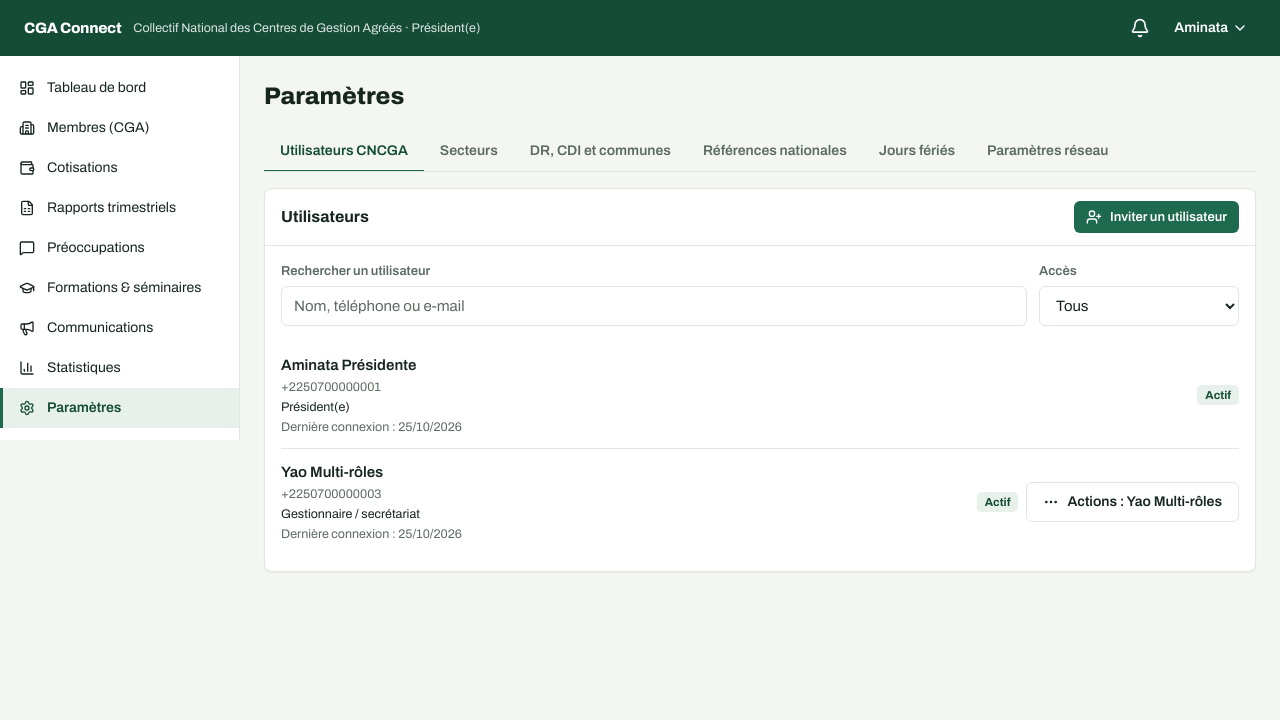
Scenario: /cncga/parametres · onglets et utilisateurs (1.7) › F-ORG-10 · Utilisateurs CNCGA : la liste, puis une invitation avec un profil du réseau
Check: the text "Yao Multi-rôles" is shown, box [281,464,383,480]
Click the button "Inviter un utilisateur": click(1156, 217) [1074,201,1239,233]
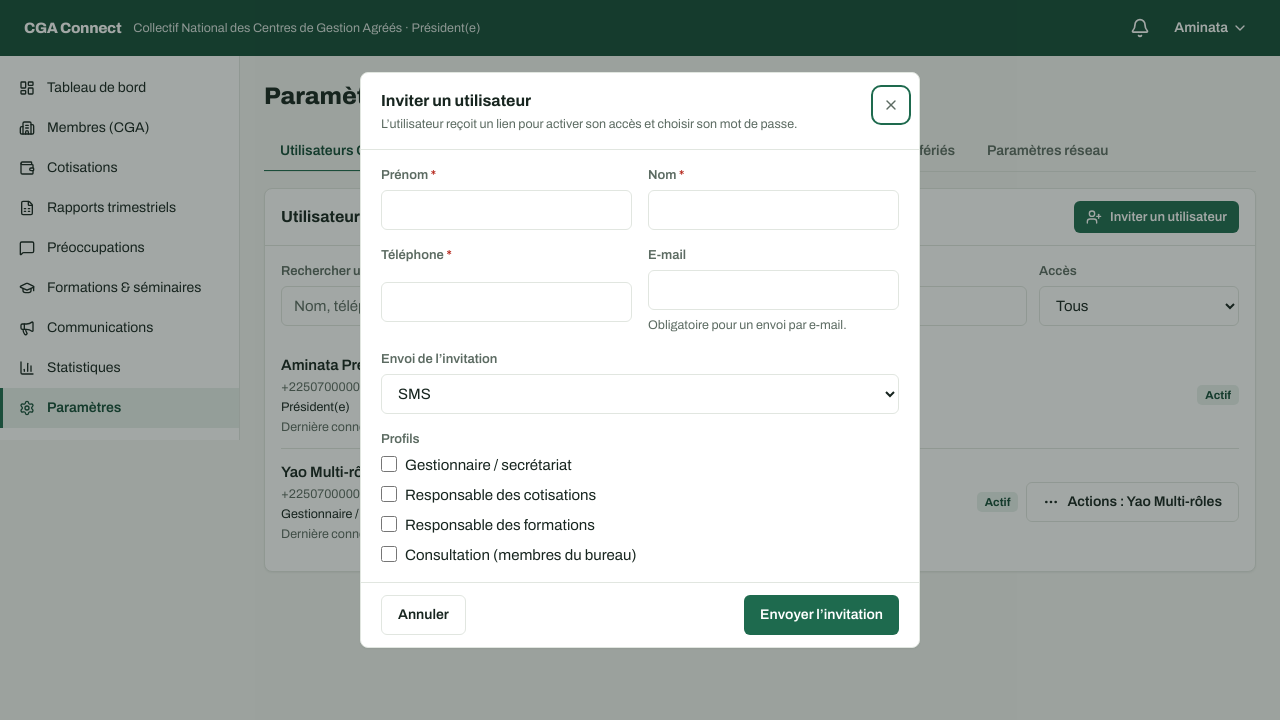
In the field labelled "Prénom *": (506, 210) [381,190,632,230], type "Marie"
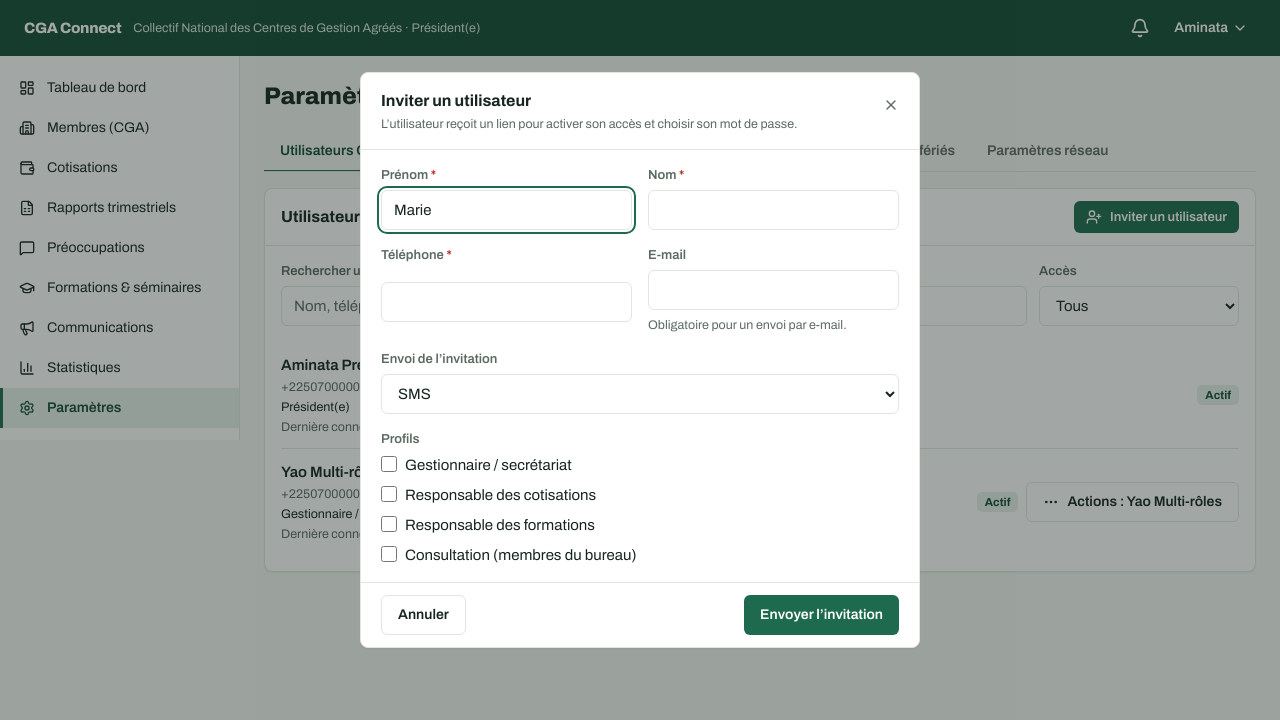
In the field labelled "Nom *": (774, 210) [648,190,899,230], type "Cotisations"
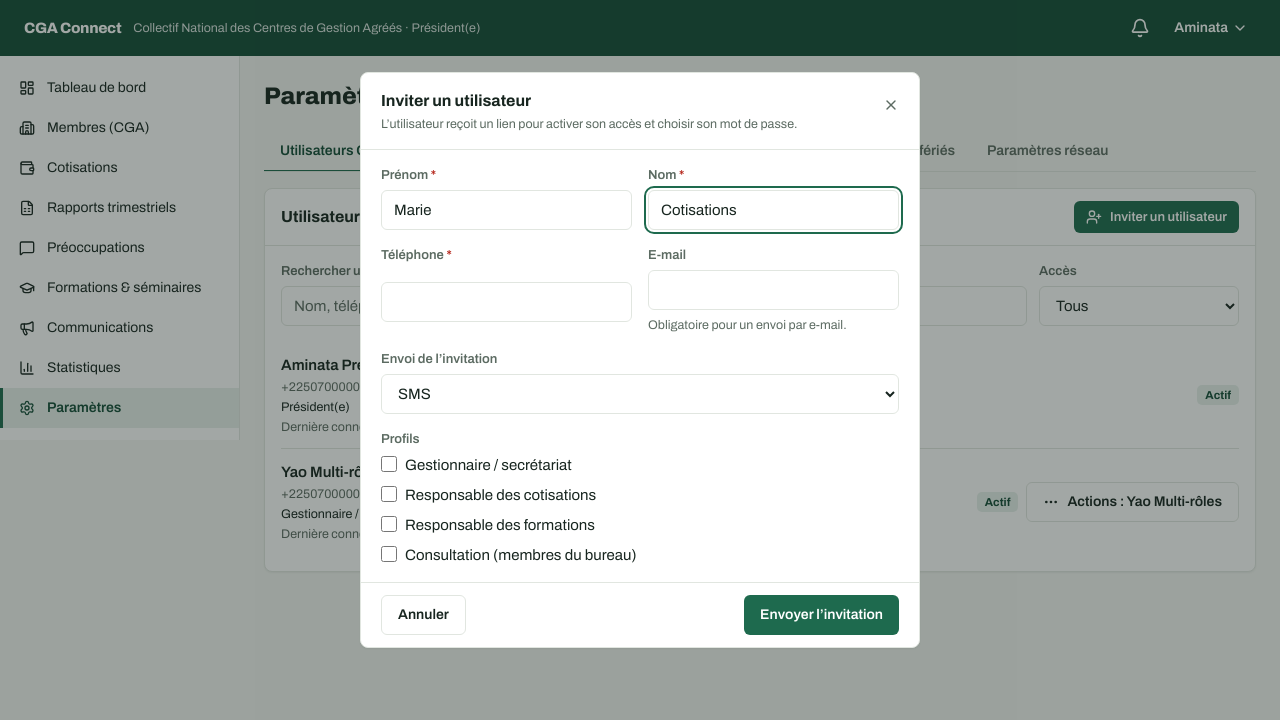
In the field labelled "Téléphone *": (506, 302) [381,282,632,322], type "+2250700000030"
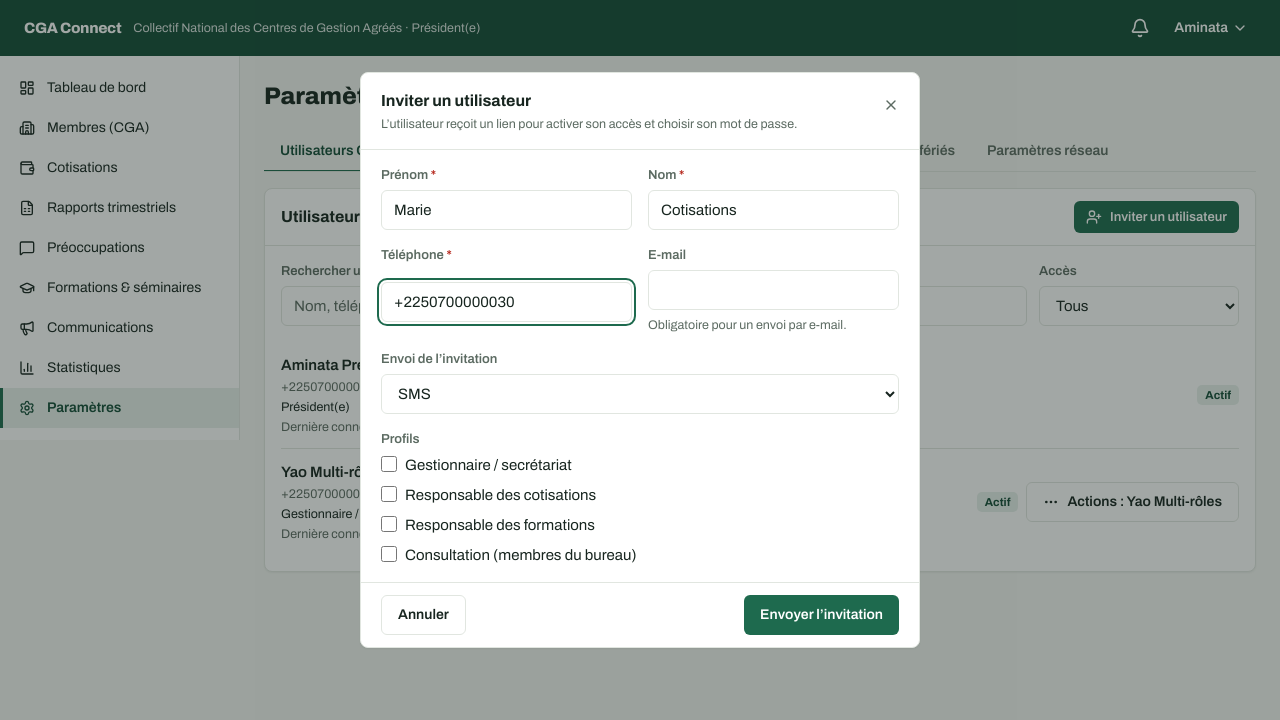
Click the checkbox labelled "Responsable des cotisations": click(389, 494) [381,486,397,502]
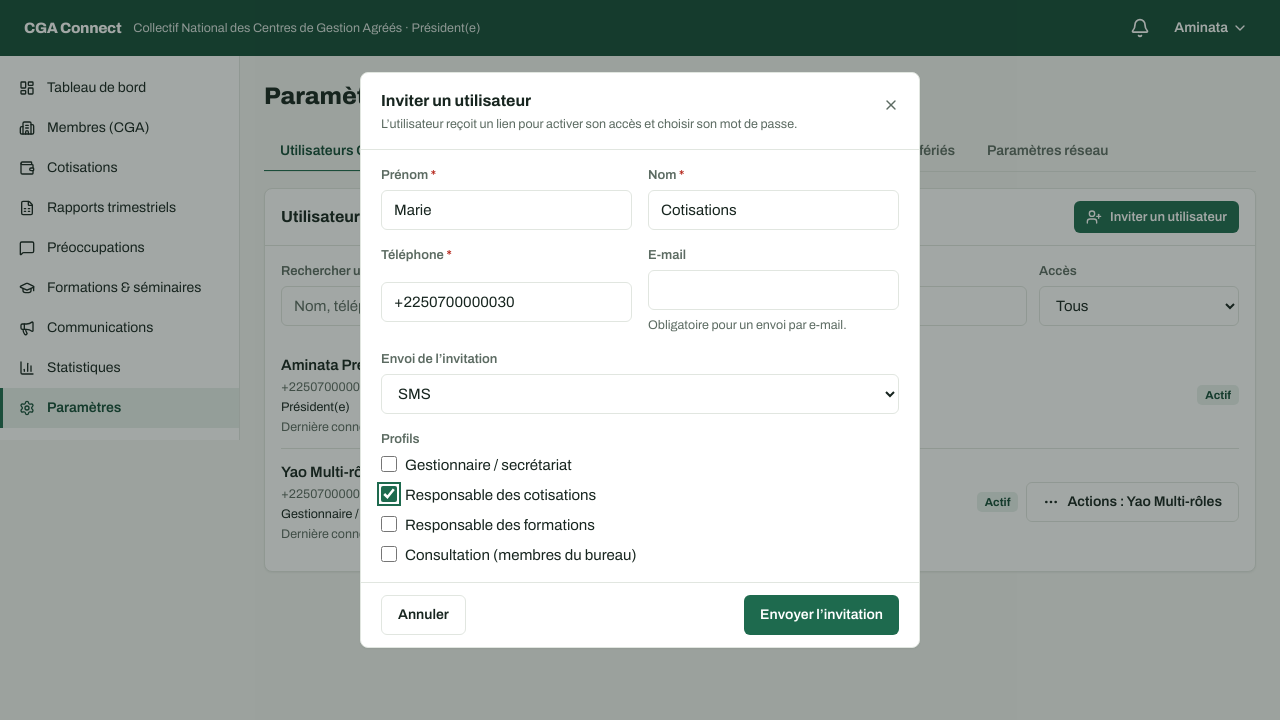
Click the button "Envoyer l’invitation": click(822, 615) [744,595,899,635]
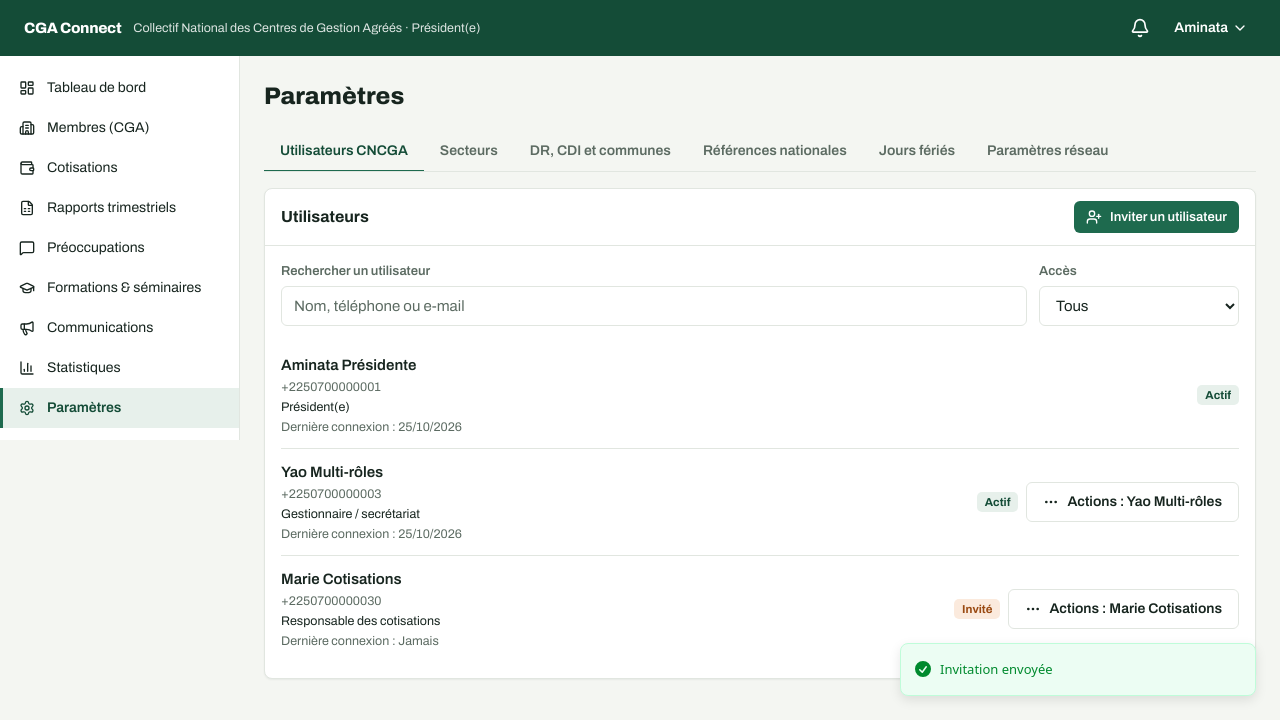
Check: the text "Invitation envoyée" is shown, box [940,660,1053,679]
